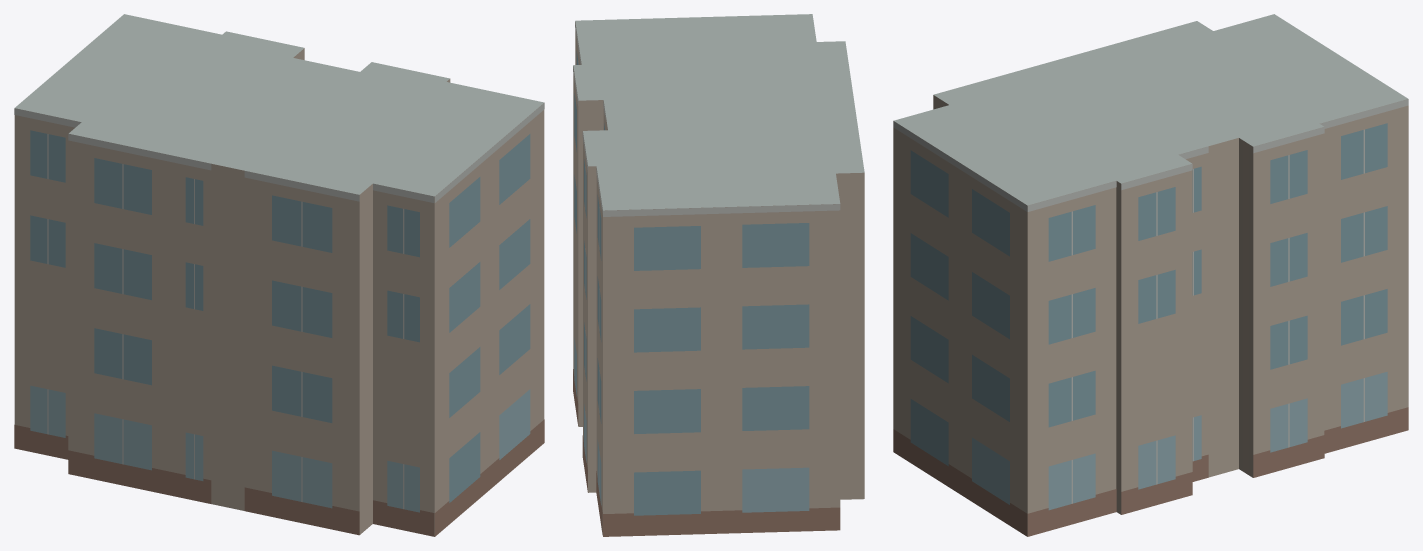
Rendered from survey-upis-32739293.glb.
3 views of the same model, side by side, from view 1: azimuth 30°, elevation 25°; view 2: azimuth 150°, elevation 25°; view 3: azimuth 270°, elevation 25° (orthographic). The views are drawn at different scales.
Visible parts, largest first — view 1: survey-upis-32739293.tmp; view 2: survey-upis-32739293.tmp; view 3: survey-upis-32739293.tmp.
Part boxes in pixels (bbox=[...]): survey-upis-32739293.tmp: bbox=[14, 14, 544, 536]; survey-upis-32739293.tmp: bbox=[573, 14, 864, 536]; survey-upis-32739293.tmp: bbox=[893, 14, 1408, 536].
Size of the model in its own units: 15.13 by 12.2 by 17.2.
